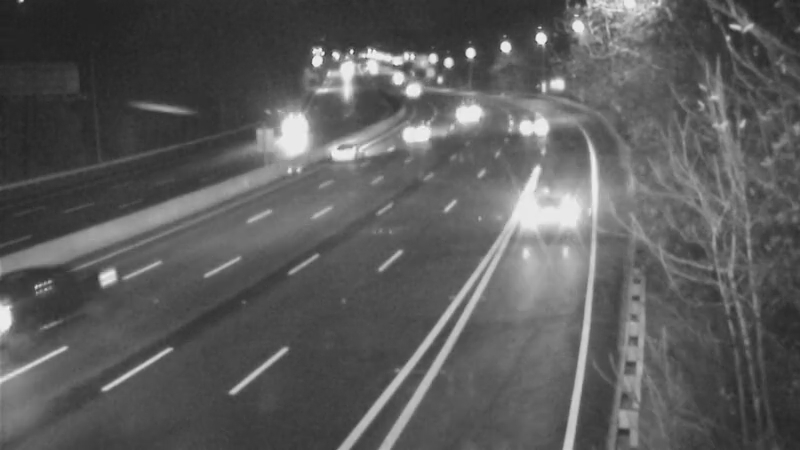vehicle: (308, 111, 388, 191), (507, 177, 587, 257), (1, 259, 76, 339), (385, 64, 435, 114), (439, 85, 489, 135), (506, 106, 556, 156), (395, 106, 445, 156), (268, 105, 318, 155)
